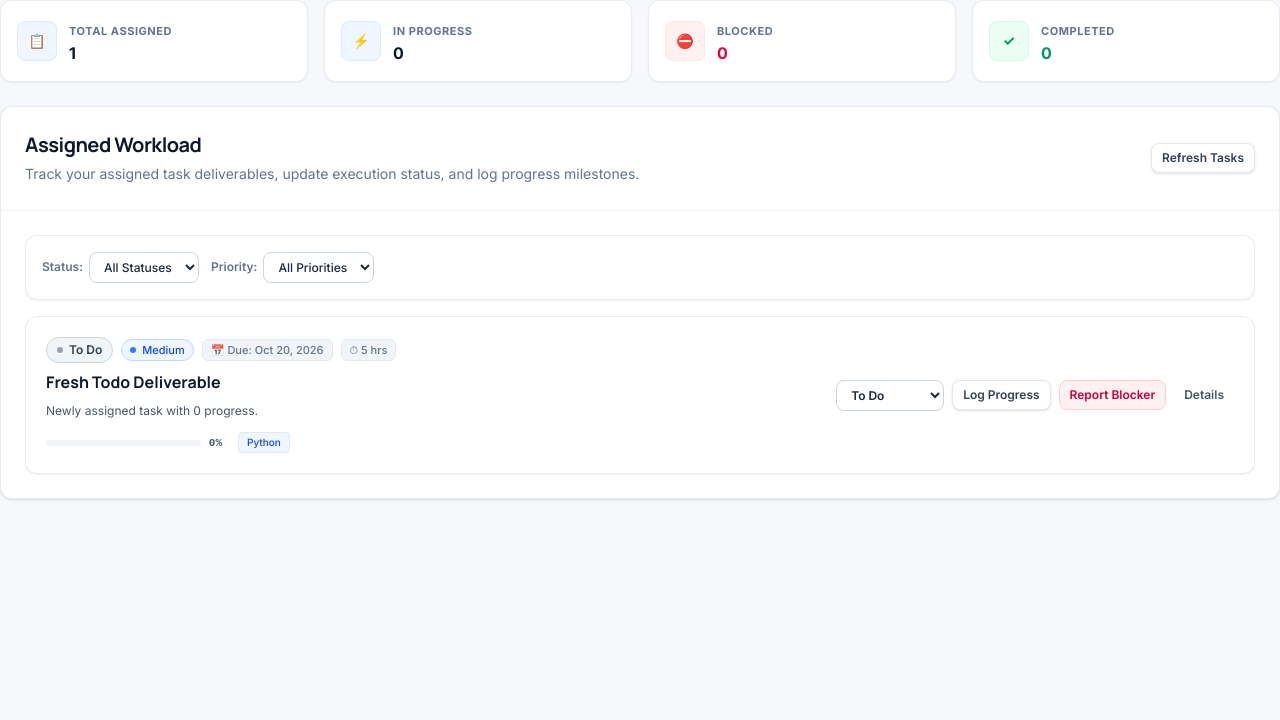
Scenario: EmployeeTasks Component › proves no arbitrary 10% progress increase occurs on in_progress transition and initial modal is current percentage
Check: the heading "Fresh Todo Deliverable" is shown, box left=46, top=371, right=221, bottom=393
Check: the text "0%" is shown, box left=209, top=434, right=222, bottom=451
Select "In Progress" in the dropdown named "update status for fresh todo deliverable" at (890, 395), box left=836, top=380, right=944, bottom=410
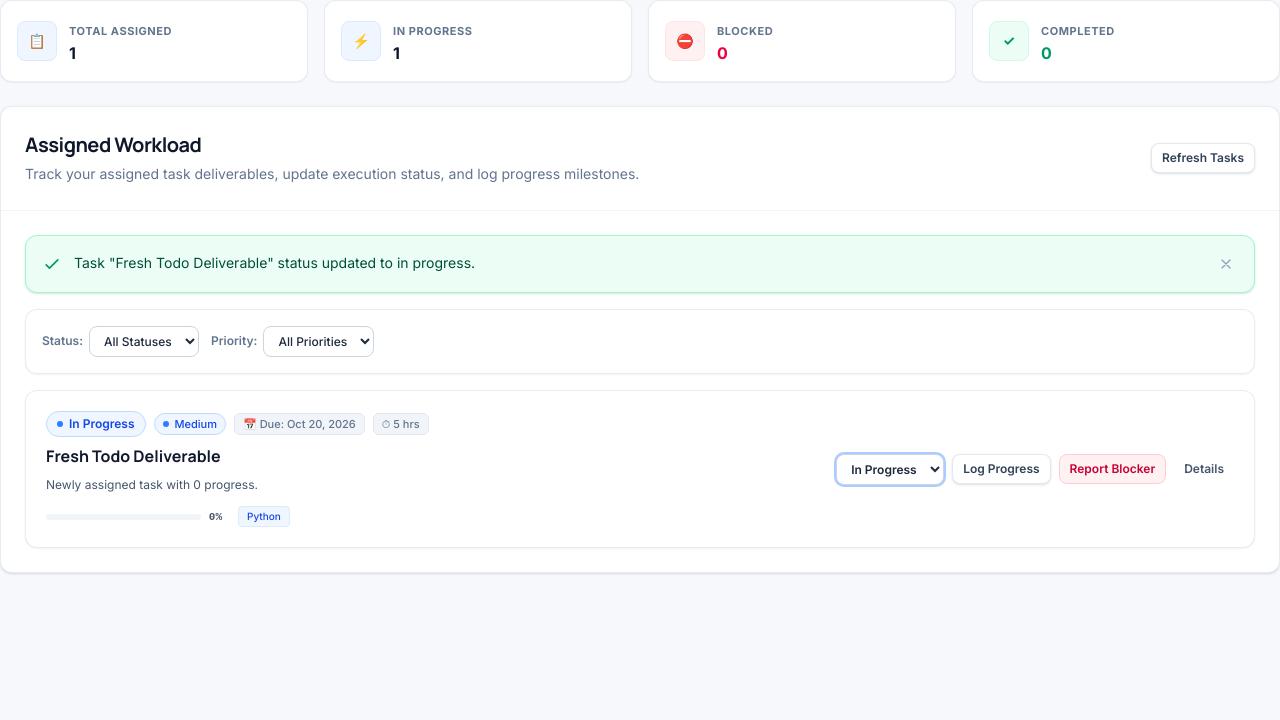
Check: the text "0%" is shown, box left=209, top=508, right=222, bottom=525
Note: Open progress modal: initial percentage slider value must be 0% (not 10%)
Click the button "Log Progress" at (1001, 469), box left=952, top=454, right=1051, bottom=484
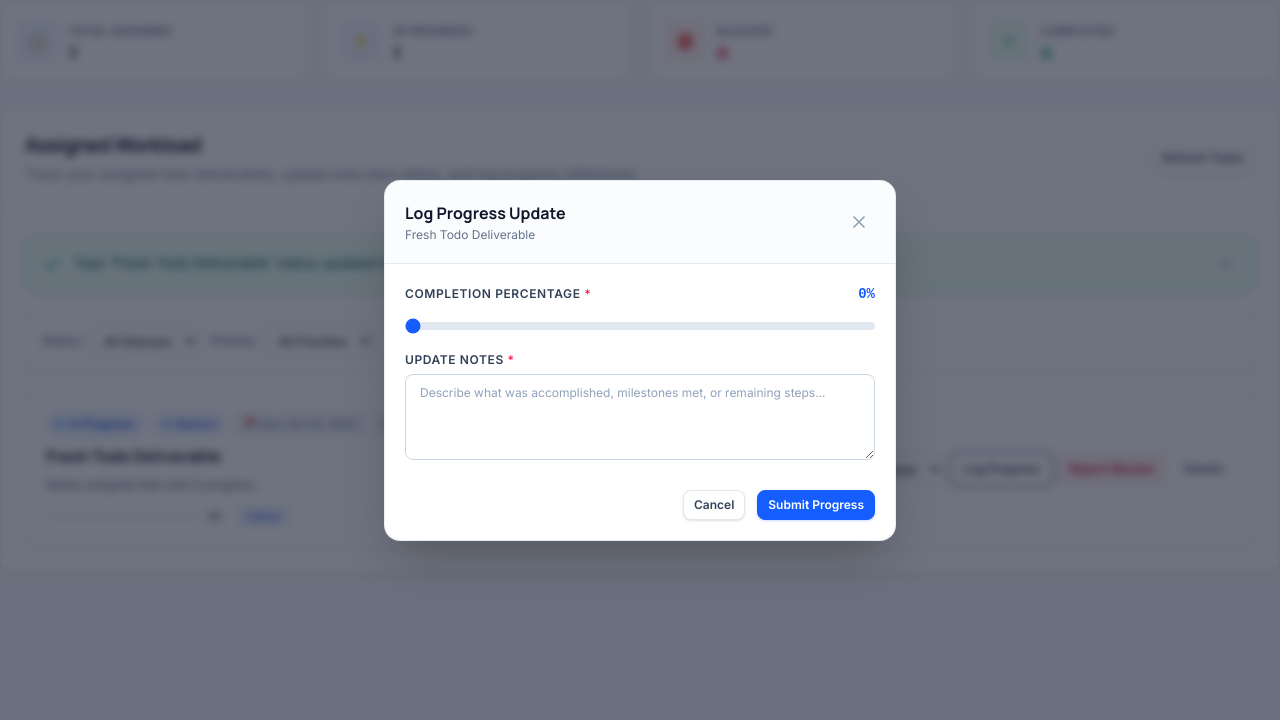
Check: the heading "Log Progress Update" is shown, box left=405, top=200, right=566, bottom=224
